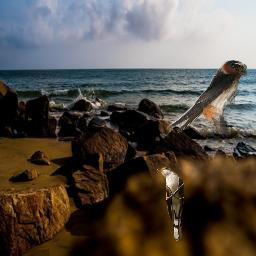Cuckoo: (157, 167, 184, 241)
Swallow: (167, 60, 247, 134)
